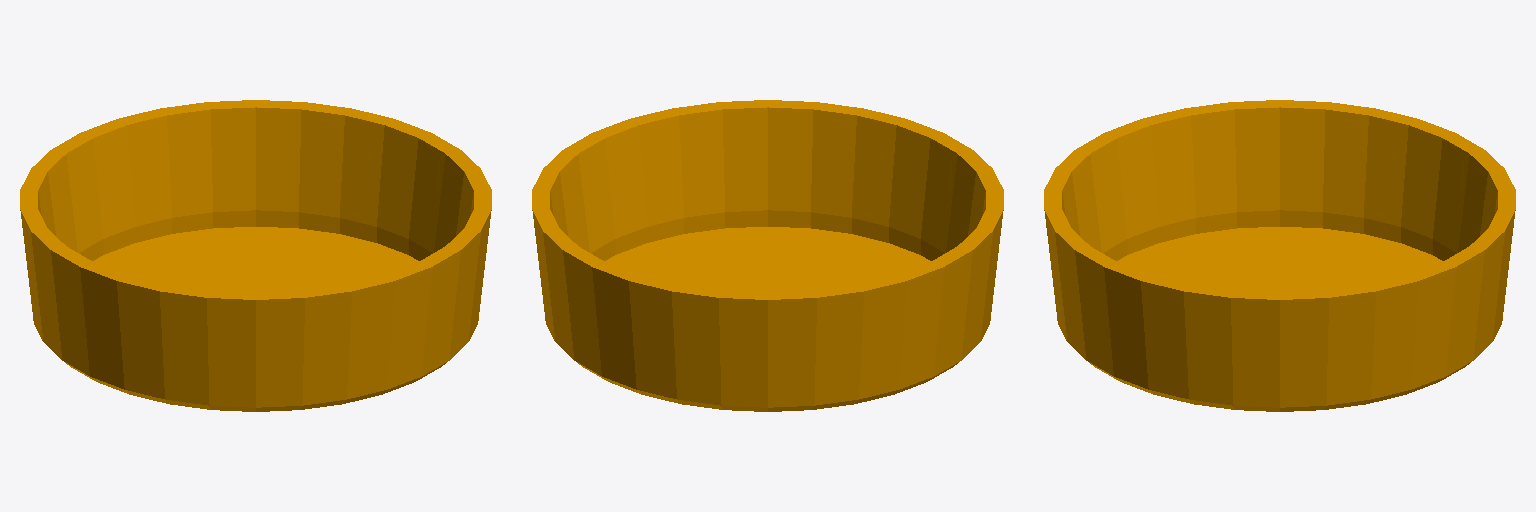
robot.urdf — bullet_pan:
<robot name="bullet_pan">
  <link name="base">
    <visual><geometry><mesh filename="bullet_pan.normalized.obj"/></geometry></visual>
    <collision><geometry><mesh filename="bullet_pan.collision_box.obj"/></geometry></collision>
  </link>
</robot>

--- Render facts (derived) ---
Views: 3 orthographic renders of the robot side by side, from view 1: azimuth 30°, elevation 25°; view 2: azimuth 150°, elevation 25°; view 3: azimuth 270°, elevation 25°.
Model bullet_pan with 1 links and 0 joints (none), rooted at base, posed all joints at 0.
Links seen in each view (by area): view 1: base; view 2: base; view 3: base.
Link boxes in pixels (x1,y1,x2,y2): base: [20, 100, 491, 411]; base: [532, 100, 1003, 411]; base: [1044, 100, 1515, 411].
Bounding box of the posed robot: 1 × 0.9945 × 0.283 m (x, y, z).
Meshes: 1 distinct files referenced, 1 mesh visuals loaded (1 OBJ).
